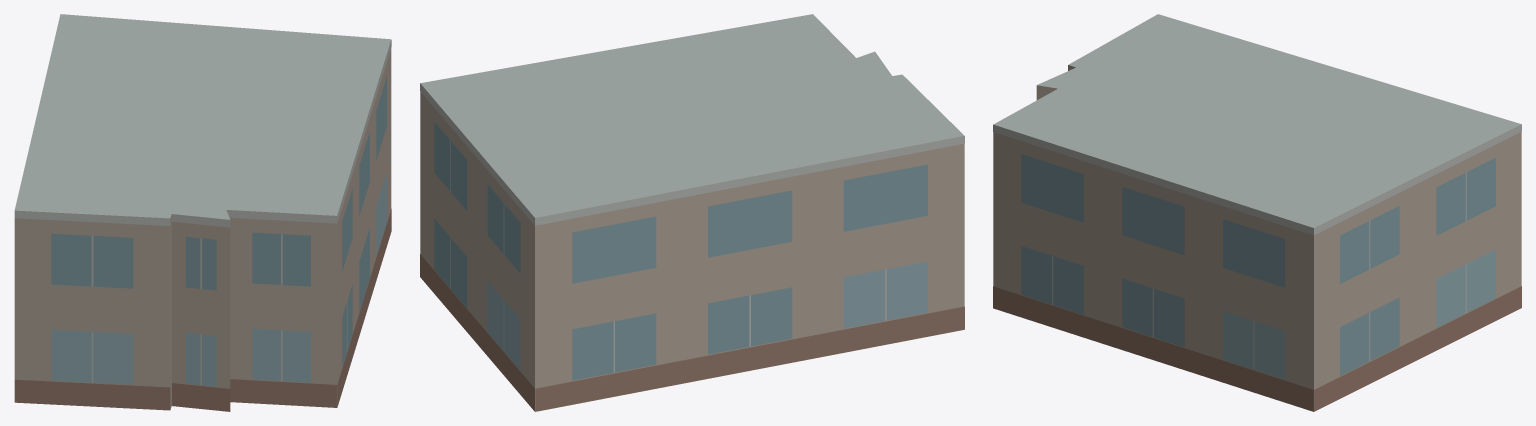
The model's file is survey-upis-32654945.glb.
The picture shows the model from 3 angles, left to right: view 1: azimuth 30°, elevation 25°; view 2: azimuth 150°, elevation 25°; view 3: azimuth 270°, elevation 25°; orthographic projection. The views are drawn at different scales.
Visible parts, largest first — view 1: survey-upis-32654945.tmp; view 2: survey-upis-32654945.tmp; view 3: survey-upis-32654945.tmp.
Boxes of the visible parts, x1,y1,x2,y2 form: survey-upis-32654945.tmp: (14,14,391,411); survey-upis-32654945.tmp: (420,14,964,411); survey-upis-32654945.tmp: (993,14,1521,411).
Bounding box in the file's own units: 15.25 × 6.1 × 15.91.
